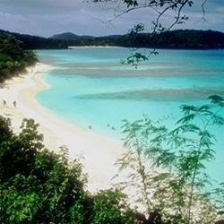neutral: (1, 35, 223, 224)
